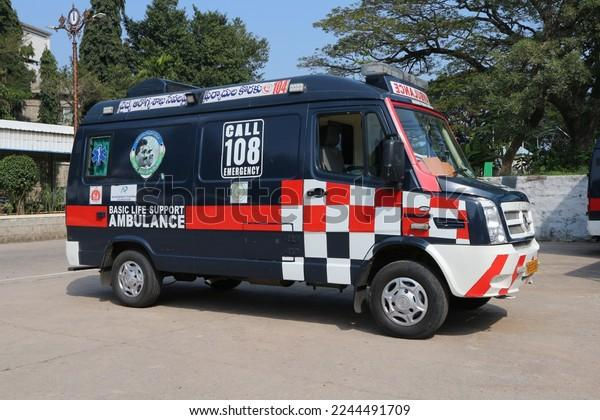ER: (61, 72, 540, 338)
